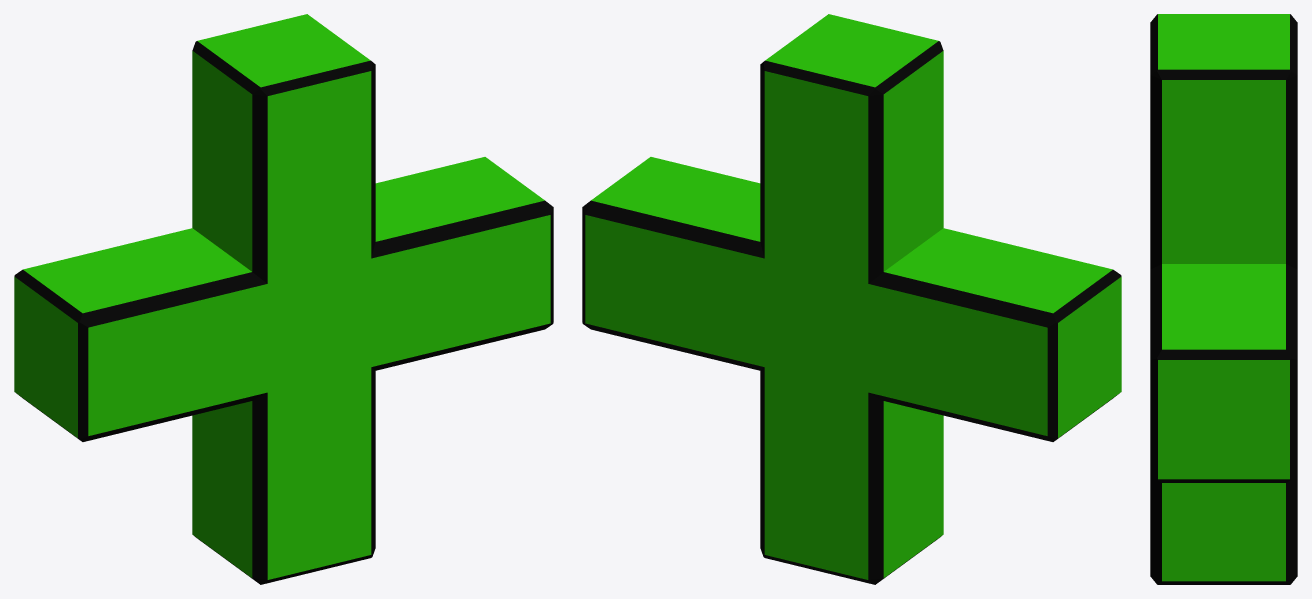
File: WeaponPickup.fbx
The picture shows the model from 3 angles, left to right: view 1: azimuth 30°, elevation 25°; view 2: azimuth 150°, elevation 25°; view 3: azimuth 270°, elevation 25°; orthographic projection. The views are drawn at different scales.
Parts seen in each view (by area): view 1: Cube; view 2: Cube; view 3: Cube.
Boxes of the visible parts, x1,y1,x2,y2 form: Cube: (14, 14, 553, 584); Cube: (582, 14, 1121, 584); Cube: (1150, 14, 1297, 584).
Size of the model in its own units: 80.47 by 80.47 by 20.85.
